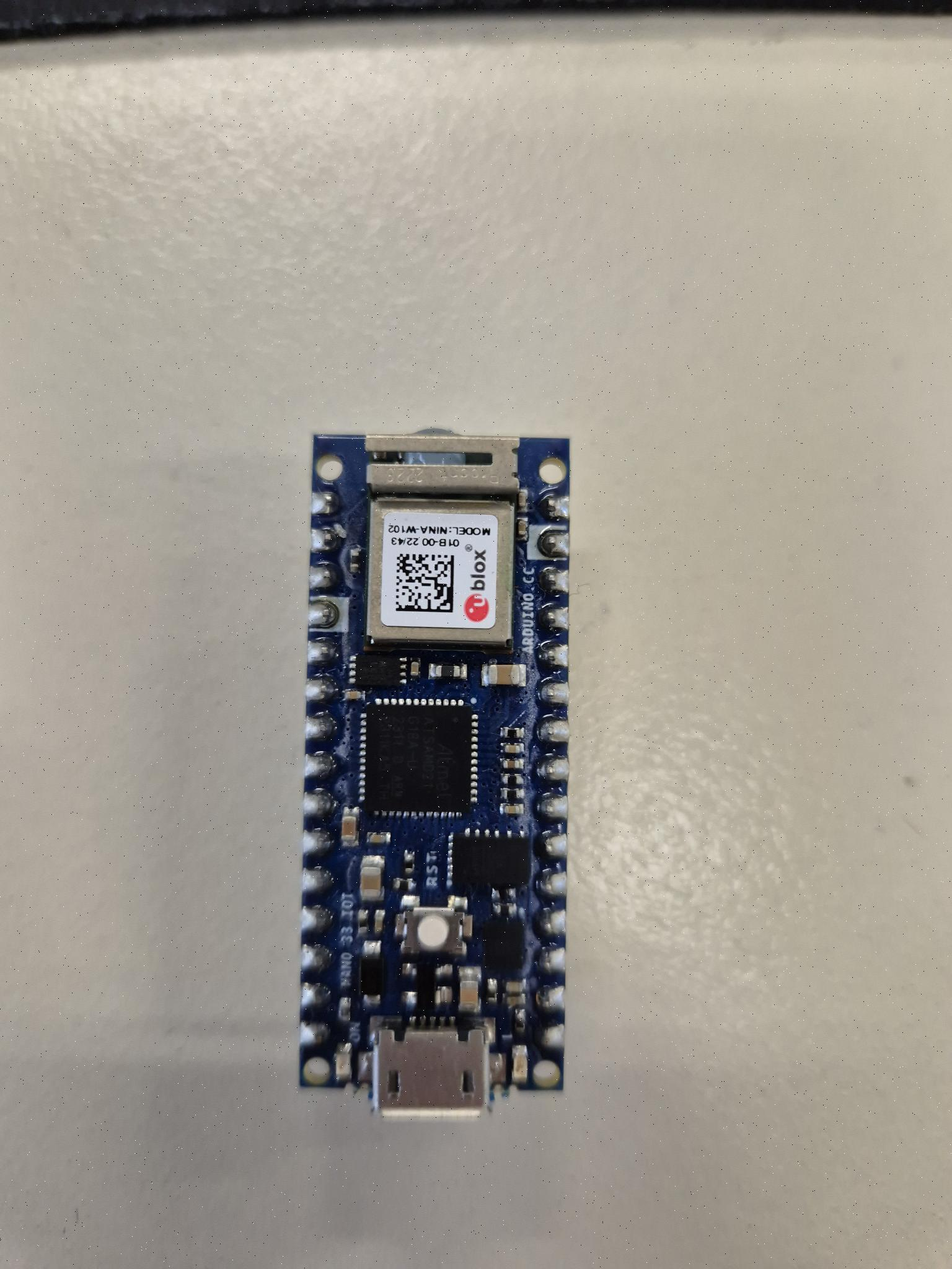arduino-nano-iot-33: (301, 432, 569, 1117)
